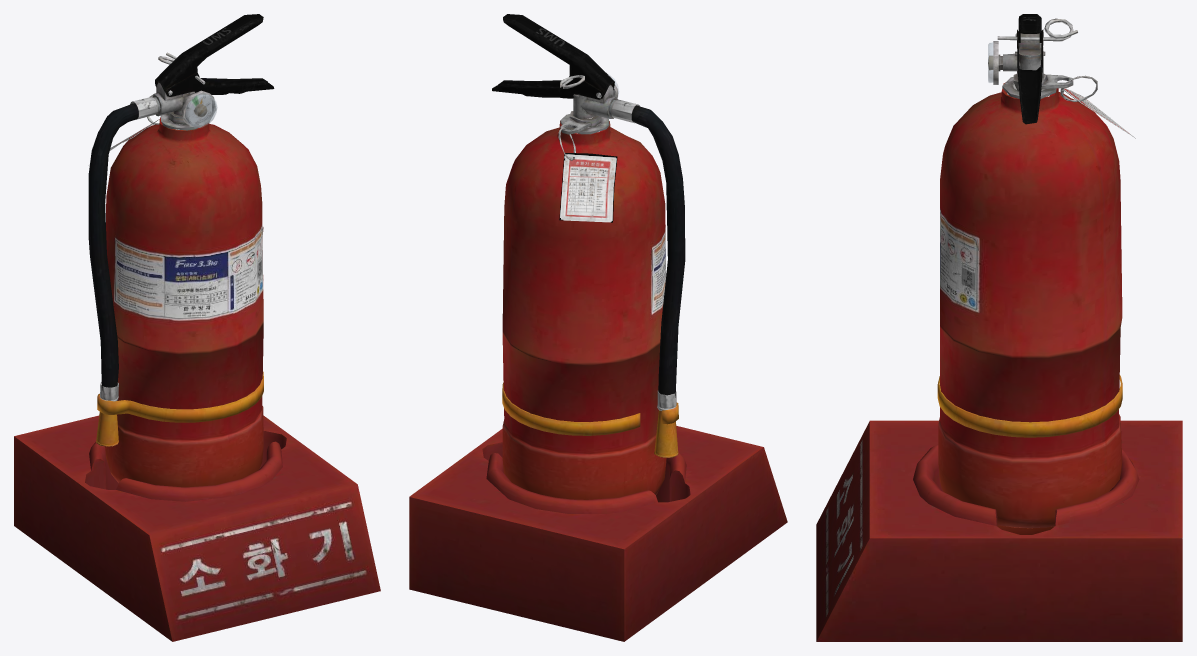
File: korean_fire_extinguisher_01.glb
The picture shows the model from 3 angles, left to right: view 1: azimuth 30°, elevation 25°; view 2: azimuth 150°, elevation 25°; view 3: azimuth 270°, elevation 25°; orthographic projection. The views are drawn at different scales.
Bounding box in the file's own units: 0.279 × 0.6591 × 0.3674.
Materials: 3 (3 with a texture image).
